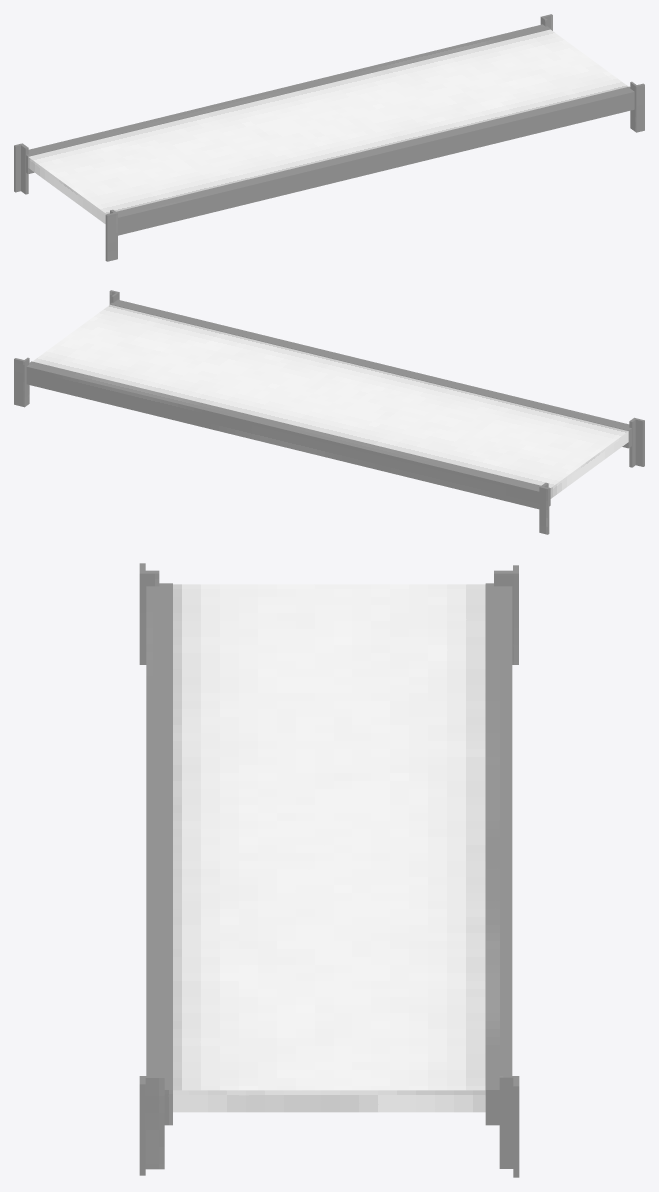
File: StorageRackNarrowShortShelf.glb
3 views of the same model, one above another, from view 1: azimuth 30°, elevation 25°; view 2: azimuth 150°, elevation 25°; view 3: azimuth 270°, elevation 25° (orthographic). The views are drawn at different scales.
Visible parts, largest first — view 1: StorageRackNarrowShortShelf; view 2: StorageRackNarrowShortShelf; view 3: StorageRackNarrowShortShelf.
Part boxes in pixels (bbox=[...]): StorageRackNarrowShortShelf: bbox=[14, 14, 644, 261]; StorageRackNarrowShortShelf: bbox=[14, 290, 644, 534]; StorageRackNarrowShortShelf: bbox=[139, 563, 519, 1177].
Bounding box in the file's own units: 2.06 × 0.1679 × 0.6322.
Materials: 1 (1 with a texture image).
